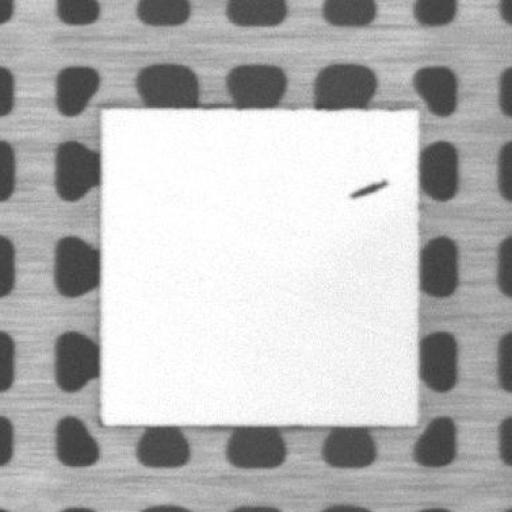DIE_INK: (344, 178, 391, 199)
